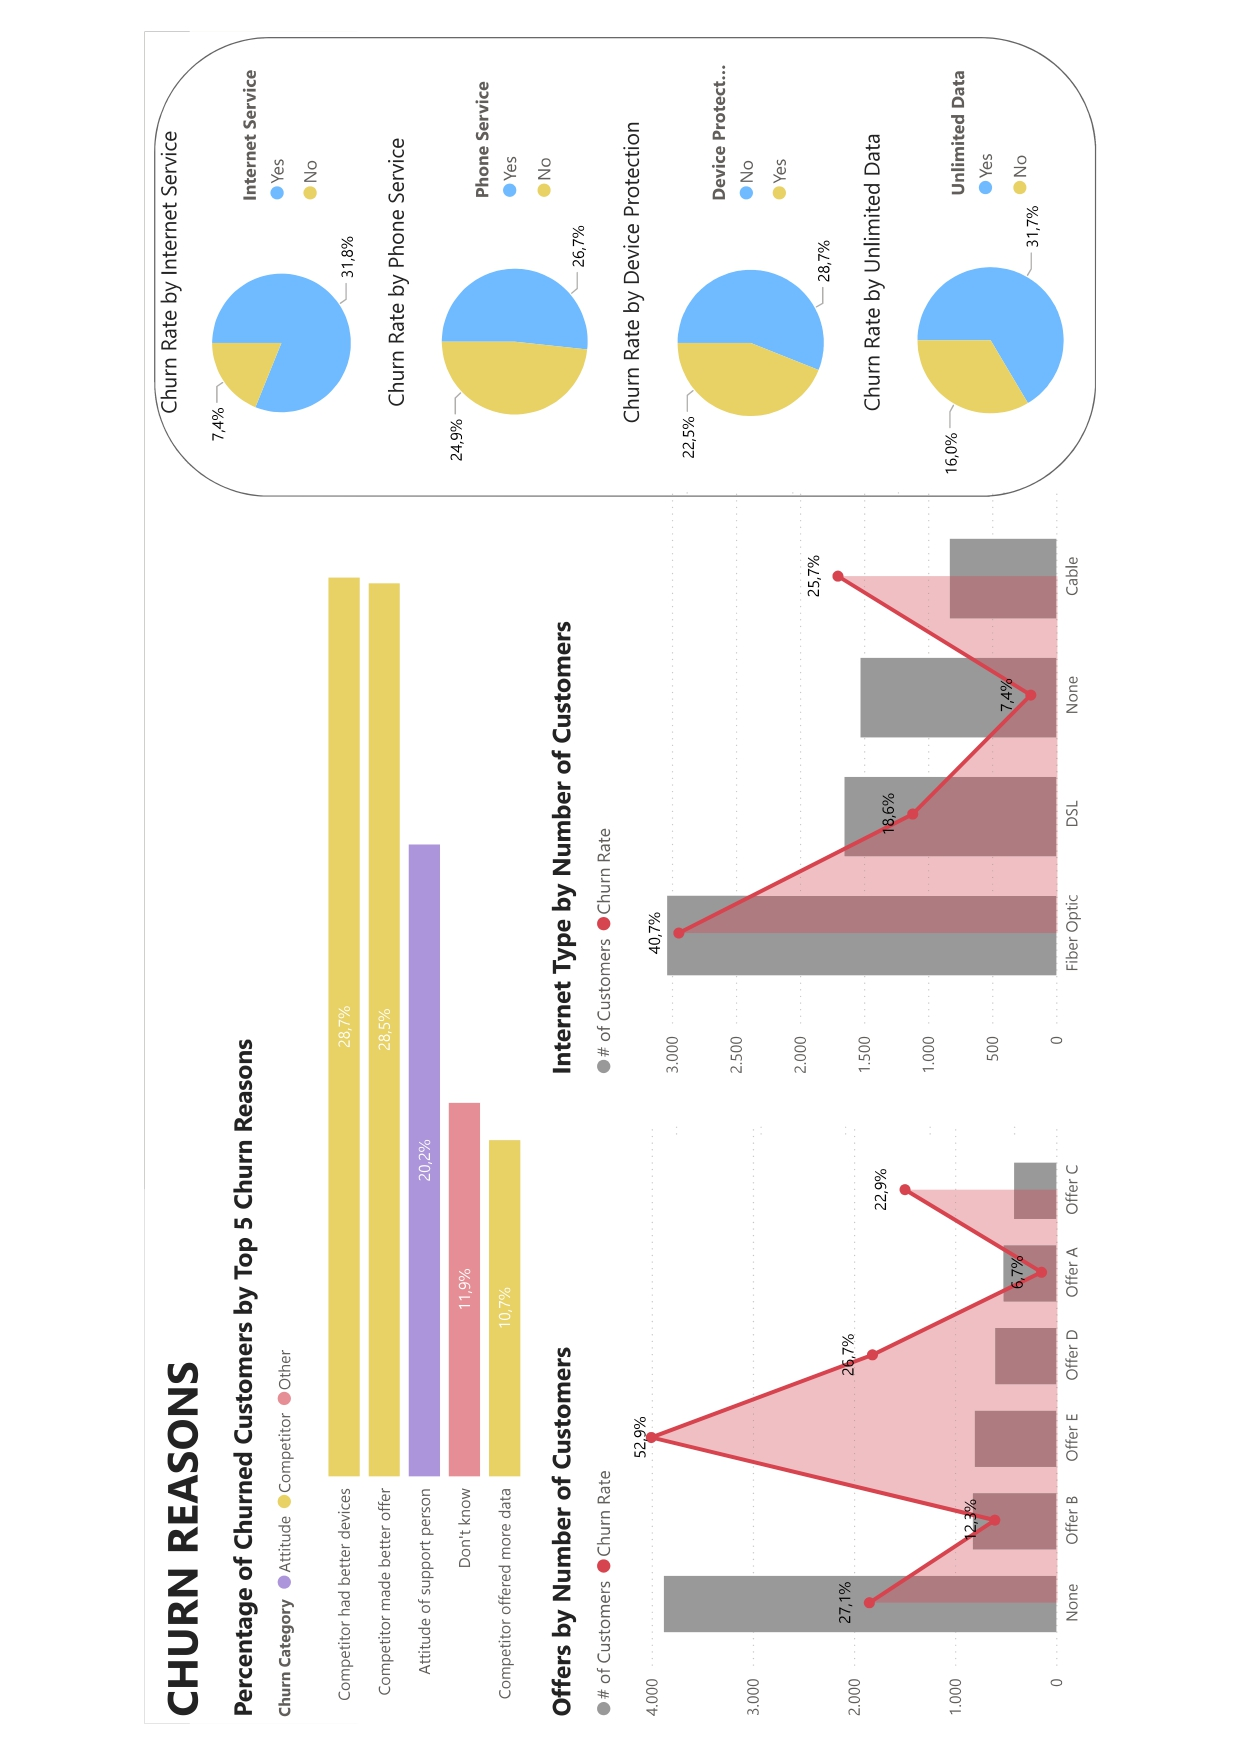

What the dashboard file says about the page in this screenshot:
{"tool":"powerbi","page":{"name":"Churn Reason","canvas":[1280,720],"ordinal":1},"visuals":[{"type":"textbox","box":[0,0,403.6,61.3],"z":0},{"type":"barChart","title":"Percentage of Churned Customers by Top 5 Churn Reasons","fields":{"Category":["Telco_Churn_Status.Churn Reason"],"Series":["Telco_Churn_Status.Churn Category"],"Y":["Medidas.# Churn Customers"]},"box":[0,61.1,903,241.3],"z":1000},{"type":"lineStackedColumnComboChart","title":"Offers by Number of Customers","fields":{"Y":["Medidas.# of Customers"],"Y2":["Medidas.Churn Rate"],"Category":["Telco_Churn_Services.Offer"]},"box":[0,302.4,488.8,417.3],"z":2000},{"type":"pieChart","title":"Churn Rate by Internet Service","fields":{"Y":["Medidas.Churn Rate"],"Category":["Telco_Churn_Services.Internet Service"]},"box":[932,7.2,332.4,171.9],"z":3000},{"type":"pieChart","title":"Churn Rate by Phone Service","fields":{"Y":["Medidas.Churn Rate"],"Category":["Telco_Churn_Services.Phone Service"]},"box":[932,179.2,332.4,181.2],"z":4000},{"type":"lineStackedColumnComboChart","title":"Internet Type by Number of Customers","fields":{"Y":["Medidas.# of Customers"],"Y2":["Medidas.Churn Rate"],"Category":["Telco_Churn_Services.Internet Type"]},"box":[485.7,302.4,488.8,417.3],"z":5000},{"type":"pieChart","title":"Churn Rate by Device Protection","fields":{"Y":["Medidas.Churn Rate"],"Category":["Telco_Churn_Services.Device Protection Plan"]},"box":[932,357.3,332.4,181.2],"z":6000},{"type":"pieChart","title":"Churn Rate by Unlimited Data","fields":{"Y":["Medidas.Churn Rate"],"Category":["Telco_Churn_Services.Unlimited Data"]},"box":[932,538.5,332.4,181.2],"z":7000},{"type":"shape","box":[927.9,7.2,348,712.5],"z":8000}]}

Visuals, with their boxes on the page's 1280x720 design canvas (x1, y1, x2, y2). These are canvas units, not pixel positions in the 1241x1755 screenshot, which may show the page scaled, cropped or inside an application window:
textbox: box(0, 0, 404, 61)
"Percentage of Churned Customers by Top 5 Churn Reasons" barChart: box(0, 61, 903, 302)
"Offers by Number of Customers" lineStackedColumnComboChart: box(0, 302, 489, 720)
"Churn Rate by Internet Service" pieChart: box(932, 7, 1264, 179)
"Churn Rate by Phone Service" pieChart: box(932, 179, 1264, 360)
"Internet Type by Number of Customers" lineStackedColumnComboChart: box(486, 302, 974, 720)
"Churn Rate by Device Protection" pieChart: box(932, 357, 1264, 538)
"Churn Rate by Unlimited Data" pieChart: box(932, 538, 1264, 720)
shape: box(928, 7, 1276, 720)
